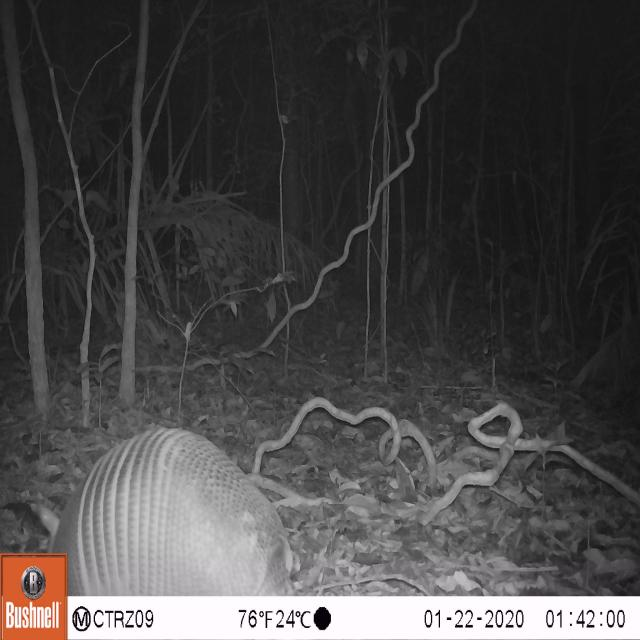Armadillo: (46, 414, 303, 596)
